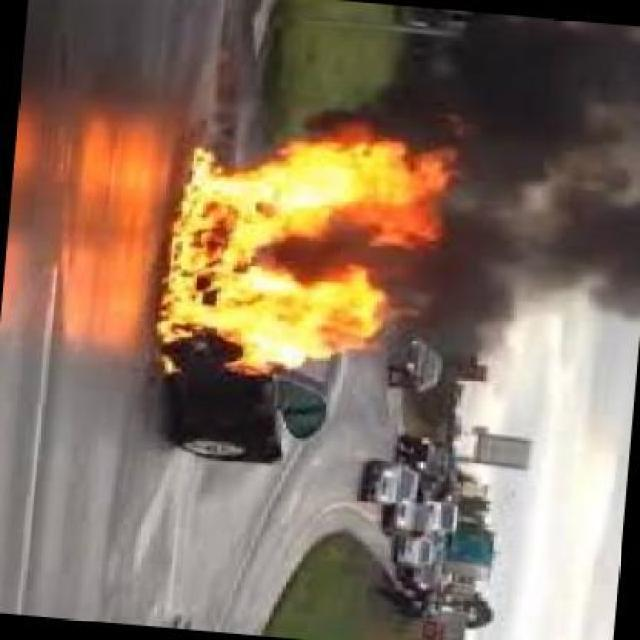Fire: (161, 124, 445, 362)
Smoke: (446, 15, 640, 352), (324, 20, 572, 131)
